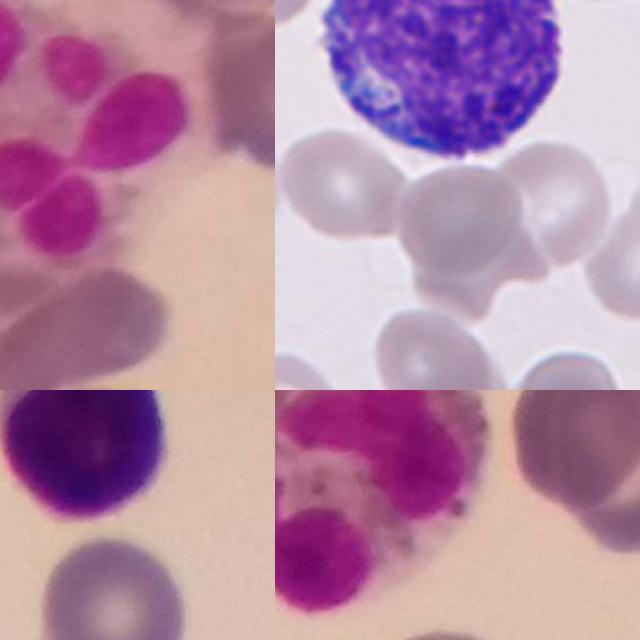Eosinophil: (0, 0, 198, 270), (275, 390, 496, 617)
Lymphocyte: (307, 0, 577, 177), (0, 390, 167, 526)
RBC: (275, 125, 414, 244), (393, 158, 528, 276), (494, 137, 613, 268), (366, 302, 508, 390), (579, 174, 640, 327), (507, 345, 632, 390), (275, 345, 350, 390)
